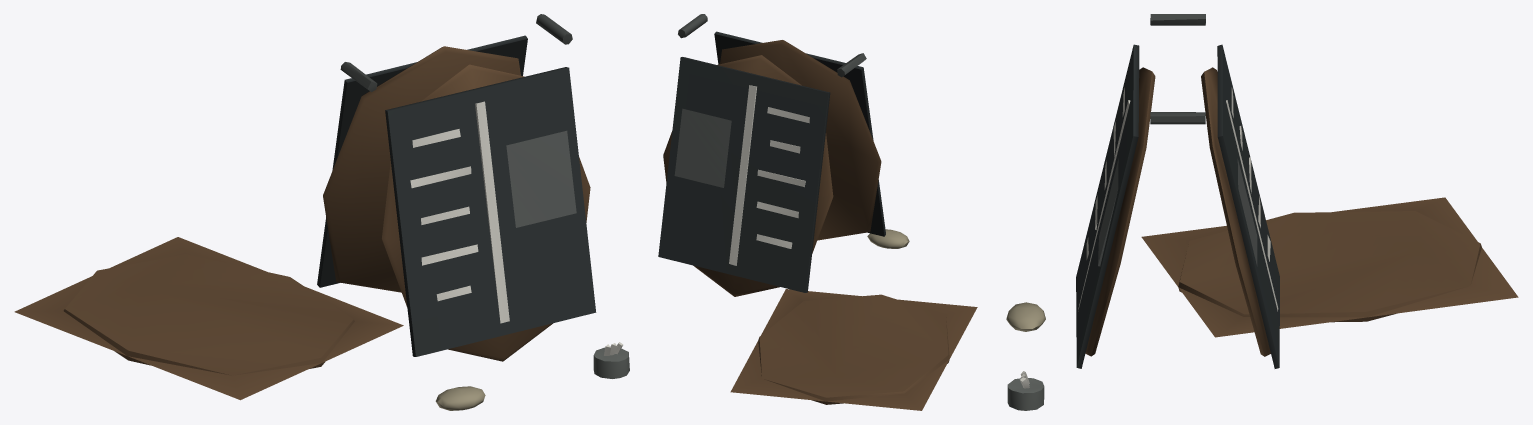
Rendered from shift_board_b_lod2.glb.
The picture shows the model from 3 angles, left to right: view 1: azimuth 30°, elevation 25°; view 2: azimuth 150°, elevation 25°; view 3: azimuth 270°, elevation 25°; orthographic projection. The views are drawn at different scales.
Visible parts, largest first — view 1: Surface.001; view 2: Surface.001; view 3: Surface.001.
Boxes of the visible parts, x1=… form: Surface.001: x1=14, y1=14, x2=629, y2=410; Surface.001: x1=658, y1=14, x2=977, y2=410; Surface.001: x1=1006, y1=14, x2=1518, y2=410.
Size of the model in its own units: 1.8 by 1.19 by 1.85.
